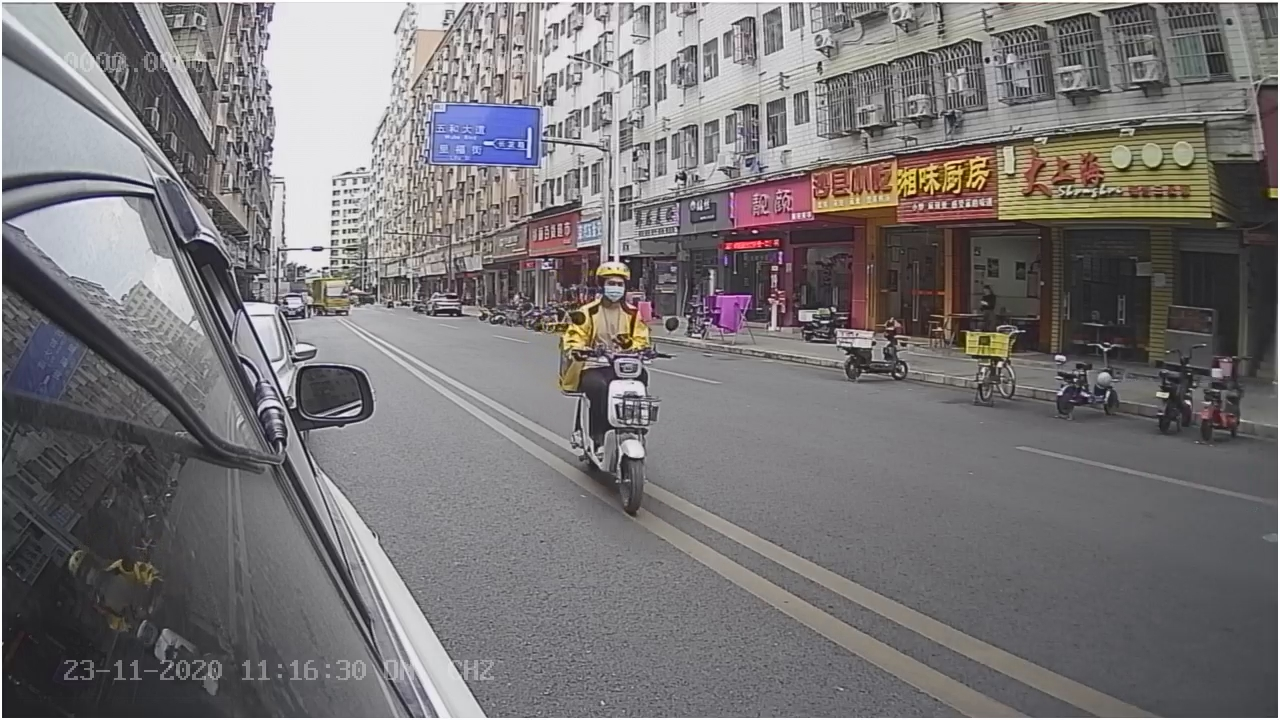person: (557, 259, 668, 355)
